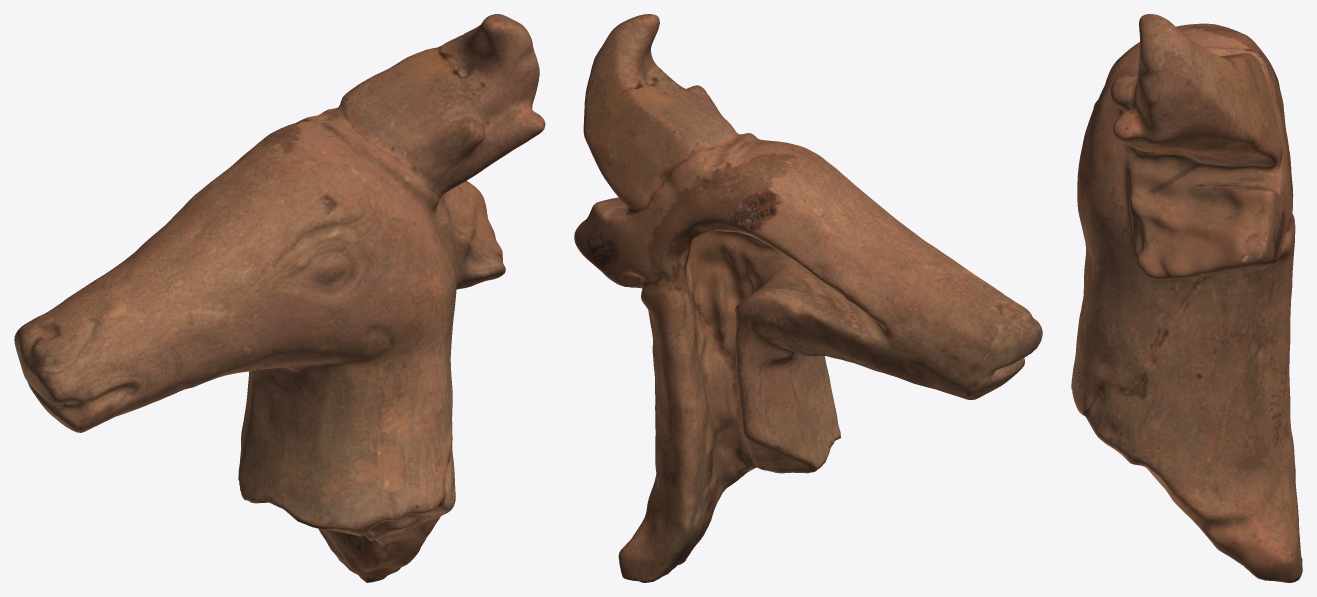
The model's file is MysonMuseum_gazelle_final.glb.
3 views of the same model, side by side, from view 1: azimuth 30°, elevation 25°; view 2: azimuth 150°, elevation 25°; view 3: azimuth 270°, elevation 25° (orthographic). The views are drawn at different scales.
Size of the model in its own units: 0.2966 by 0.3311 by 0.1183.
1 material, 1 textured.
